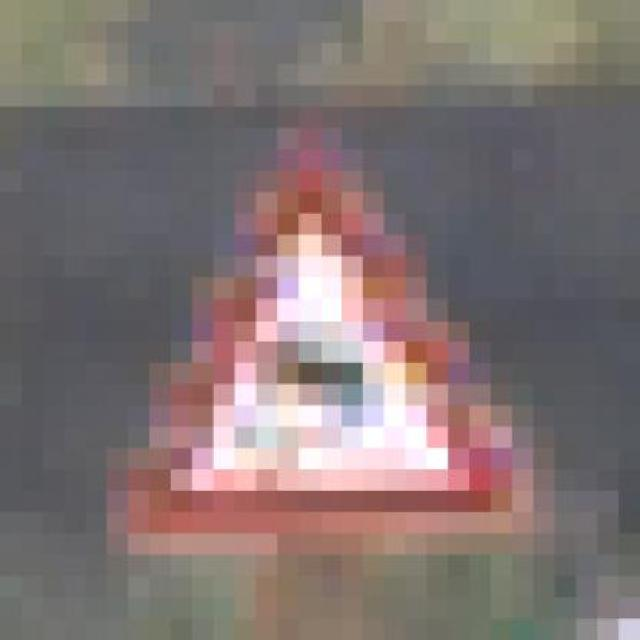Slippery Road Ahead: (129, 107, 576, 576)
